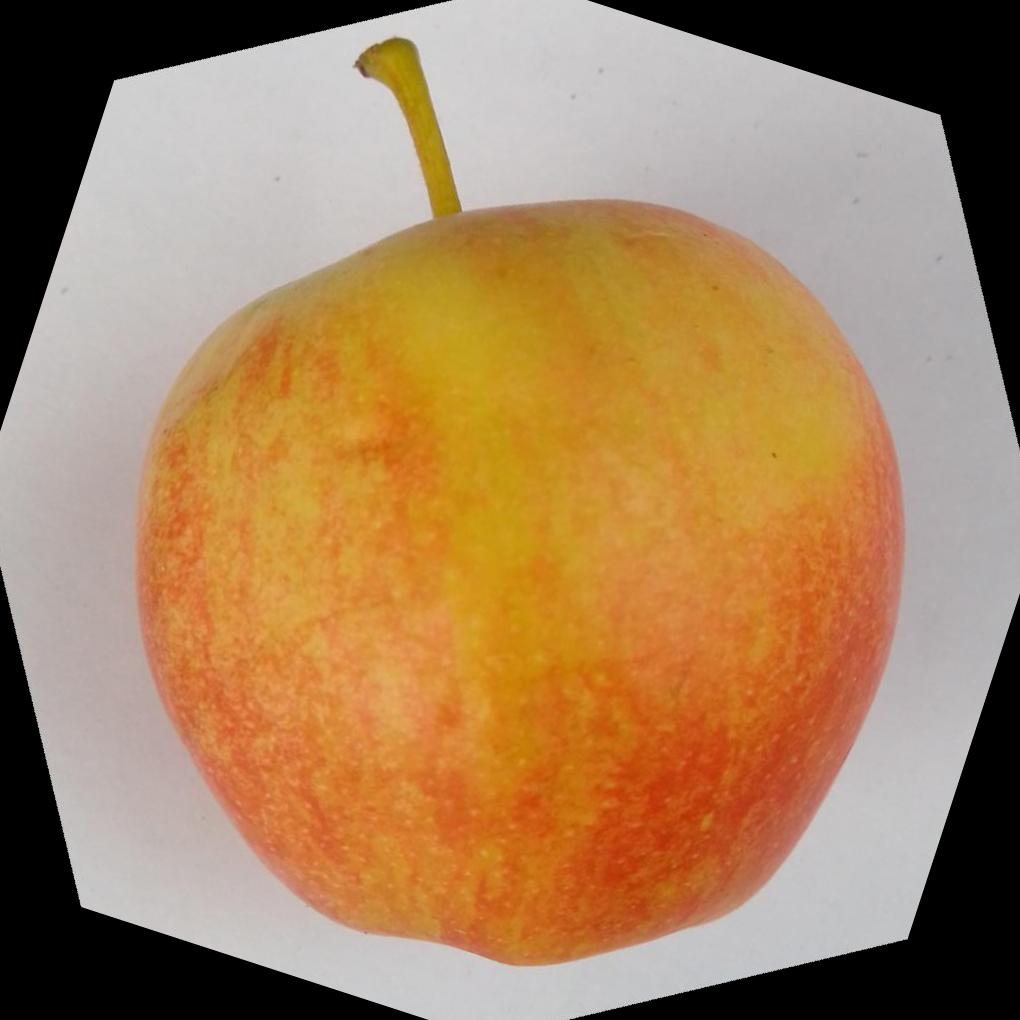FreshGuava: (133, 197, 909, 972)
